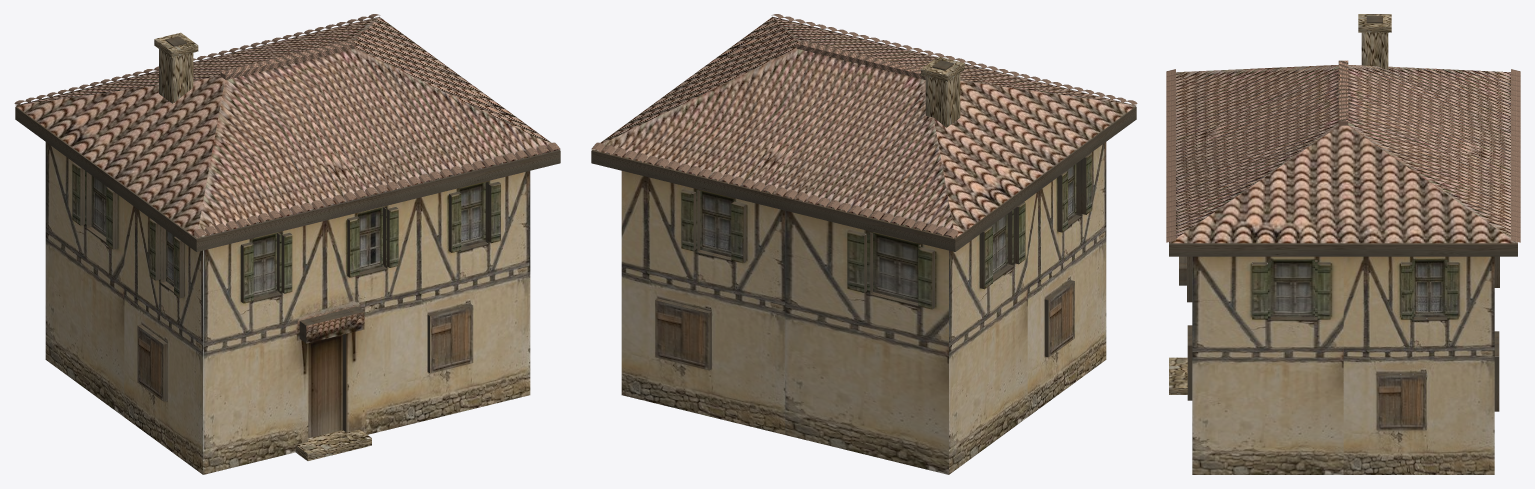
Rendered from himis.glb.
The picture shows the model from 3 angles, left to right: view 1: azimuth 30°, elevation 25°; view 2: azimuth 150°, elevation 25°; view 3: azimuth 270°, elevation 25°; orthographic projection. The views are drawn at different scales.
Parts seen in each view (by area): view 1: himis; view 2: himis; view 3: himis.
Boxes of the visible parts, box(x1,y1,x2,y2) form: himis: box(14, 14, 560, 474); himis: box(591, 14, 1137, 474); himis: box(1166, 14, 1520, 474).
Size of the model in its own units: 6.68 by 6.1 by 5.85.
Materials: 1 (1 with a texture image).
